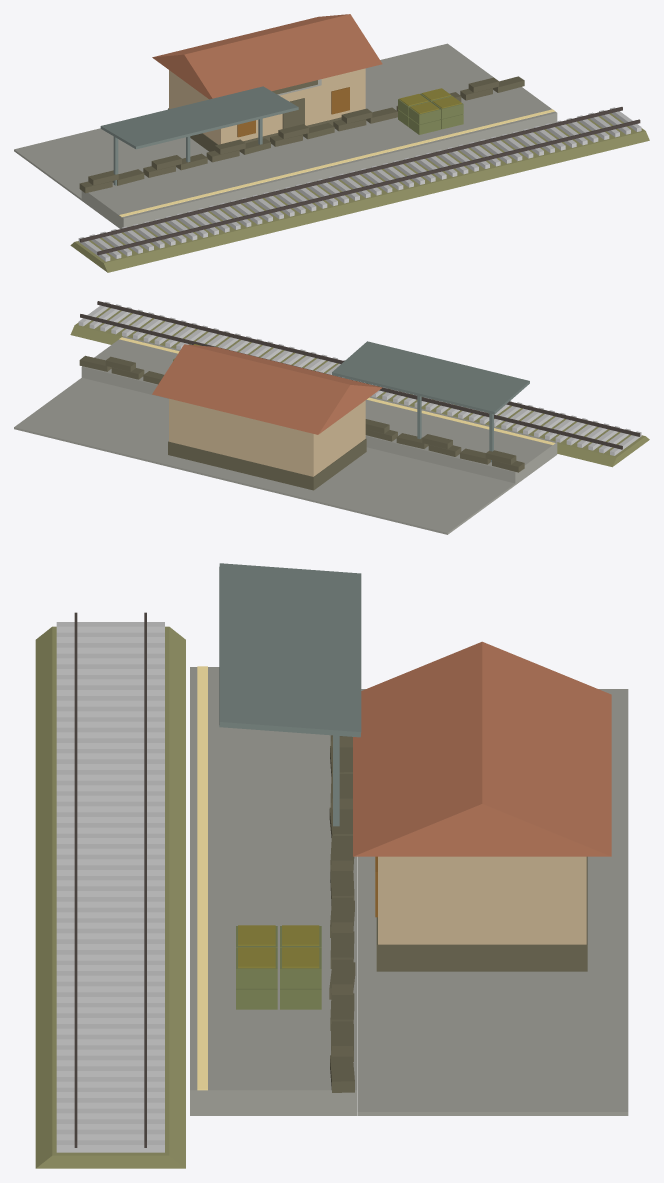
Rendered from SM_EstacionH1_v1_Fortificada_LOD0.fbx.
The picture shows the model from 3 angles, top to bottom: view 1: azimuth 30°, elevation 25°; view 2: azimuth 150°, elevation 25°; view 3: azimuth 270°, elevation 25°; orthographic projection. The views are drawn at different scales.
Parts seen in each view (by area): view 1: SM_estacion_h1_v1_LOD0; view 2: SM_estacion_h1_v1_LOD0; view 3: SM_estacion_h1_v1_LOD0.
Boxes of the visible parts, x1,y1,x2,y2 form: SM_estacion_h1_v1_LOD0: (14, 14, 649, 272); SM_estacion_h1_v1_LOD0: (14, 301, 649, 534); SM_estacion_h1_v1_LOD0: (35, 563, 628, 1168).
Size of the model in its own units: 30 by 4.8 by 14.2.
